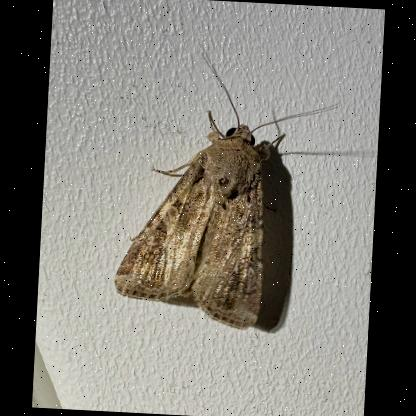Fall Armyworm Moth: (107, 46, 341, 336)
